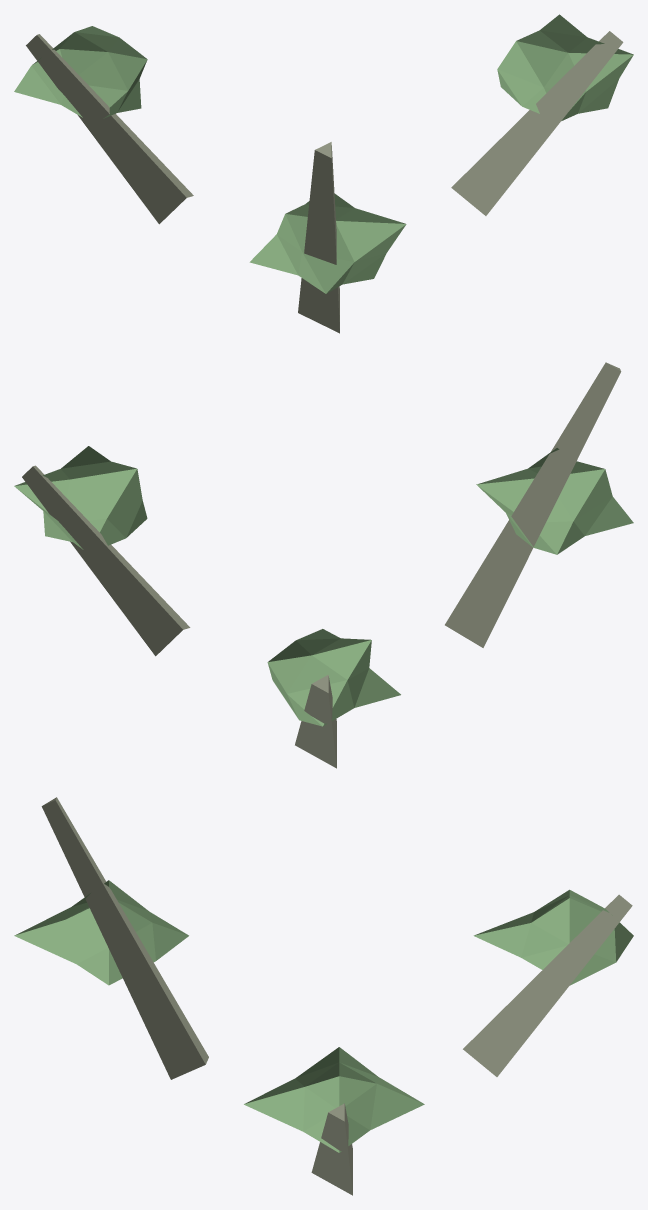
Rendered from bramble_v40.glb.
3 renders of one model, top to bottom at view 1: azimuth 30°, elevation 25°; view 2: azimuth 150°, elevation 25°; view 3: azimuth 270°, elevation 25°, orthographic.
Parts seen in each view (by area): view 1: lod0; view 2: lod0; view 3: lod0.
Part boxes in pixels (x1,y1,x2,y2): lod0: (14,14,633,333); lod0: (14,362,633,768); lod0: (14,797,633,1195).
Size of what is drawn, in the model's own units: 0.5172 by 0.2511 by 0.5594.
